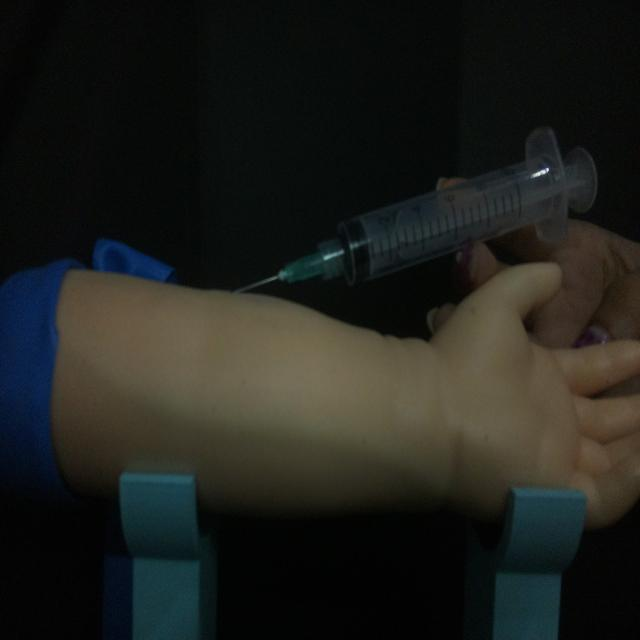22deg: (228, 121, 602, 300)
